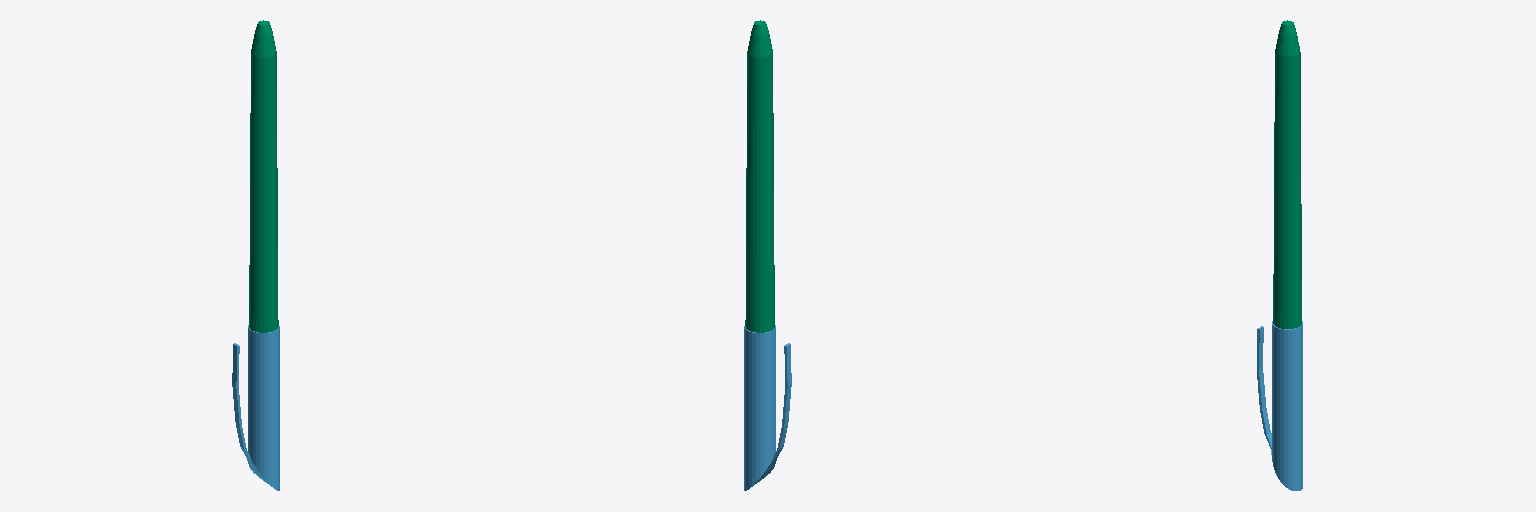
robot.urdf — partnet_59a07a01d7c3fdb03c1d9add3a87bd2d:
<?xml version="1.0" ?>
<robot name="partnet_59a07a01d7c3fdb03c1d9add3a87bd2d">
	<link name="base"/>
	<link name="link_0">
		<visual name="cap-1">
			<origin xyz="0 0 0"/>
			<geometry>
				<mesh filename="textured_objs/original-14.obj" scale="0.2 0.2 0.2"/>
			</geometry>
		</visual>
		<visual name="cap-1">
			<origin xyz="0 0 0"/>
			<geometry>
				<mesh filename="textured_objs/original-17.obj" scale="0.2 0.2 0.2"/>
			</geometry>
		</visual>
		<visual name="cap-1">
			<origin xyz="0 0 0"/>
			<geometry>
				<mesh filename="textured_objs/original-11.obj" scale="0.2 0.2 0.2"/>
			</geometry>
		</visual>
		<collision>
			<origin xyz="0 0 0"/>
			<geometry>
				<mesh filename="textured_objs/original-14.obj" scale="0.2 0.2 0.2"/>
			</geometry>
		</collision>
		<collision>
			<origin xyz="0 0 0"/>
			<geometry>
				<mesh filename="textured_objs/original-17.obj" scale="0.2 0.2 0.2"/>
			</geometry>
		</collision>
		<collision>
			<origin xyz="0 0 0"/>
			<geometry>
				<mesh filename="textured_objs/original-11.obj" scale="0.2 0.2 0.2"/>
			</geometry>
		</collision>
	</link>
	<joint name="joint_0" type="prismatic">
		<origin xyz="0 0 0"/>
		<axis xyz="0 -1 0"/>
		<child link="link_0"/>
		<parent link="link_1"/>
		<limit lower="0" upper="0.492"/>
	</joint>
	<link name="link_1">
		<visual name="base_body-2">
			<origin xyz="0 0 0"/>
			<geometry>
				<mesh filename="textured_objs/original-4.obj" scale="0.2 0.2 0.2"/>
			</geometry>
		</visual>
		<visual name="base_body-2">
			<origin xyz="0 0 0"/>
			<geometry>
				<mesh filename="textured_objs/original-3.obj" scale="0.2 0.2 0.2"/>
			</geometry>
		</visual>
		<visual name="base_body-2">
			<origin xyz="0 0 0"/>
			<geometry>
				<mesh filename="textured_objs/original-2.obj" scale="0.2 0.2 0.2"/>
			</geometry>
		</visual>
		<visual name="base_body-2">
			<origin xyz="0 0 0"/>
			<geometry>
				<mesh filename="textured_objs/original-16.obj" scale="0.2 0.2 0.2"/>
			</geometry>
		</visual>
		<visual name="base_body-2">
			<origin xyz="0 0 0"/>
			<geometry>
				<mesh filename="textured_objs/original-8.obj" scale="0.2 0.2 0.2"/>
			</geometry>
		</visual>
		<visual name="base_body-2">
			<origin xyz="0 0 0"/>
			<geometry>
				<mesh filename="textured_objs/original-13.obj" scale="0.2 0.2 0.2"/>
			</geometry>
		</visual>
		<visual name="base_body-2">
			<origin xyz="0 0 0"/>
			<geometry>
				<mesh filename="textured_objs/original-9.obj" scale="0.2 0.2 0.2"/>
			</geometry>
		</visual>
		<visual name="base_body-2">
			<origin xyz="0 0 0"/>
			<geometry>
				<mesh filename="textured_objs/original-5.obj" scale="0.2 0.2 0.2"/>
			</geometry>
		</visual>
		<visual name="base_body-2">
			<origin xyz="0 0 0"/>
			<geometry>
				<mesh filename="textured_objs/original-6.obj" scale="0.2 0.2 0.2"/>
			</geometry>
		</visual>
		<visual name="base_body-2">
			<origin xyz="0 0 0"/>
			<geometry>
				<mesh filename="textured_objs/original-15.obj" scale="0.2 0.2 0.2"/>
			</geometry>
		</visual>
		<visual name="base_body-2">
			<origin xyz="0 0 0"/>
			<geometry>
				<mesh filename="textured_objs/original-18.obj" scale="0.2 0.2 0.2"/>
			</geometry>
		</visual>
		<visual name="base_body-2">
			<origin xyz="0 0 0"/>
			<geometry>
				<mesh filename="textured_objs/original-12.obj" scale="0.2 0.2 0.2"/>
			</geometry>
		</visual>
		<visual name="base_body-2">
			<origin xyz="0 0 0"/>
			<geometry>
				<mesh filename="textured_objs/original-7.obj" scale="0.2 0.2 0.2"/>
			</geometry>
		</visual>
		<visual name="base_body-2">
			<origin xyz="0 0 0"/>
			<geometry>
				<mesh filename="textured_objs/original-1.obj" scale="0.2 0.2 0.2"/>
			</geometry>
		</visual>
		<visual name="base_body-2">
			<origin xyz="0 0 0"/>
			<geometry>
				<mesh filename="textured_objs/original-10.obj" scale="0.2 0.2 0.2"/>
			</geometry>
		</visual>
		<visual name="base_body-2">
			<origin xyz="0 0 0"/>
			<geometry>
				<mesh filename="textured_objs/original-19.obj" scale="0.2 0.2 0.2"/>
			</geometry>
		</visual>
		<collision>
			<origin xyz="0 0 0"/>
			<geometry>
				<mesh filename="textured_objs/original-4.obj" scale="0.2 0.2 0.2"/>
			</geometry>
		</collision>
		<collision>
			<origin xyz="0 0 0"/>
			<geometry>
				<mesh filename="textured_objs/original-3.obj" scale="0.2 0.2 0.2"/>
			</geometry>
		</collision>
		<collision>
			<origin xyz="0 0 0"/>
			<geometry>
				<mesh filename="textured_objs/original-2.obj" scale="0.2 0.2 0.2"/>
			</geometry>
		</collision>
		<collision>
			<origin xyz="0 0 0"/>
			<geometry>
				<mesh filename="textured_objs/original-16.obj" scale="0.2 0.2 0.2"/>
			</geometry>
		</collision>
		<collision>
			<origin xyz="0 0 0"/>
			<geometry>
				<mesh filename="textured_objs/original-8.obj" scale="0.2 0.2 0.2"/>
			</geometry>
		</collision>
		<collision>
			<origin xyz="0 0 0"/>
			<geometry>
				<mesh filename="textured_objs/original-13.obj" scale="0.2 0.2 0.2"/>
			</geometry>
		</collision>
		<collision>
			<origin xyz="0 0 0"/>
			<geometry>
				<mesh filename="textured_objs/original-9.obj" scale="0.2 0.2 0.2"/>
			</geometry>
		</collision>
		<collision>
			<origin xyz="0 0 0"/>
			<geometry>
				<mesh filename="textured_objs/original-5.obj" scale="0.2 0.2 0.2"/>
			</geometry>
		</collision>
		<collision>
			<origin xyz="0 0 0"/>
			<geometry>
				<mesh filename="textured_objs/original-6.obj" scale="0.2 0.2 0.2"/>
			</geometry>
		</collision>
		<collision>
			<origin xyz="0 0 0"/>
			<geometry>
				<mesh filename="textured_objs/original-15.obj" scale="0.2 0.2 0.2"/>
			</geometry>
		</collision>
		<collision>
			<origin xyz="0 0 0"/>
			<geometry>
				<mesh filename="textured_objs/original-18.obj" scale="0.2 0.2 0.2"/>
			</geometry>
		</collision>
		<collision>
			<origin xyz="0 0 0"/>
			<geometry>
				<mesh filename="textured_objs/original-12.obj" scale="0.2 0.2 0.2"/>
			</geometry>
		</collision>
		<collision>
			<origin xyz="0 0 0"/>
			<geometry>
				<mesh filename="textured_objs/original-7.obj" scale="0.2 0.2 0.2"/>
			</geometry>
		</collision>
		<collision>
			<origin xyz="0 0 0"/>
			<geometry>
				<mesh filename="textured_objs/original-1.obj" scale="0.2 0.2 0.2"/>
			</geometry>
		</collision>
		<collision>
			<origin xyz="0 0 0"/>
			<geometry>
				<mesh filename="textured_objs/original-10.obj" scale="0.2 0.2 0.2"/>
			</geometry>
		</collision>
		<collision>
			<origin xyz="0 0 0"/>
			<geometry>
				<mesh filename="textured_objs/original-19.obj" scale="0.2 0.2 0.2"/>
			</geometry>
		</collision>
	</link>
	<joint name="joint_1" type="fixed">
		<origin rpy="1.570796326794897 0 -1.570796326794897" xyz="0 0 0"/>
		<child link="link_1"/>
		<parent link="base"/>
	</joint>
</robot>

--- What the picture shows (computed from the rendered views, not written in the file) ---
3 views of the same robot in one strip: view 1: azimuth 30°, elevation 25°; view 2: azimuth 150°, elevation 25°; view 3: azimuth 330°, elevation 25° (orthographic).
Model partnet_59a07a01d7c3fdb03c1d9add3a87bd2d with 3 links and 2 joints (1 prismatic, 1 fixed), rooted at base, posed all joints at 0.
Visible links, largest first — view 1: link_1, link_0; view 2: link_1, link_0; view 3: link_1, link_0.
Boxes of the visible links, x1,y1,x2,y2 form: link_1: (249,20,278,332); link_0: (232,325,279,490); link_1: (745,20,774,332); link_0: (744,325,791,490); link_1: (1273,20,1301,328); link_0: (1257,321,1302,490).
Size in the robot's own frame: 0.0359 by 0.0229 by 0.3718 metres.
Meshes: 19 distinct files referenced, 19 mesh visuals loaded (19 OBJ).
